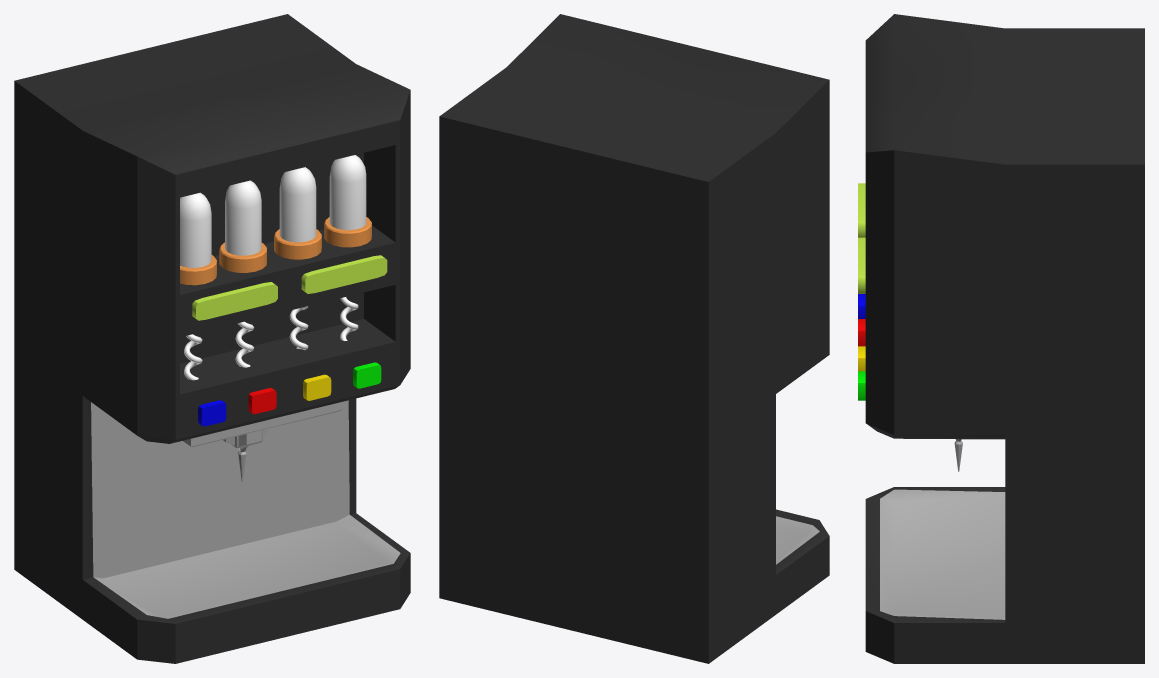
File: EnvironScene_CureDispenserMachiene_02.FBX
3 renders of one model, left to right at view 1: azimuth 30°, elevation 25°; view 2: azimuth 150°, elevation 25°; view 3: azimuth 270°, elevation 25°, orthographic. The views are drawn at different scales.
Visible parts, largest first — view 1: Box001; view 2: Box001; view 3: Box001.
Boxes of the visible parts, x1,y1,x2,y2 form: Box001: [14, 14, 410, 663]; Box001: [439, 14, 829, 663]; Box001: [858, 14, 1144, 663].
Size of the model in its own units: 300 by 528 by 267.
